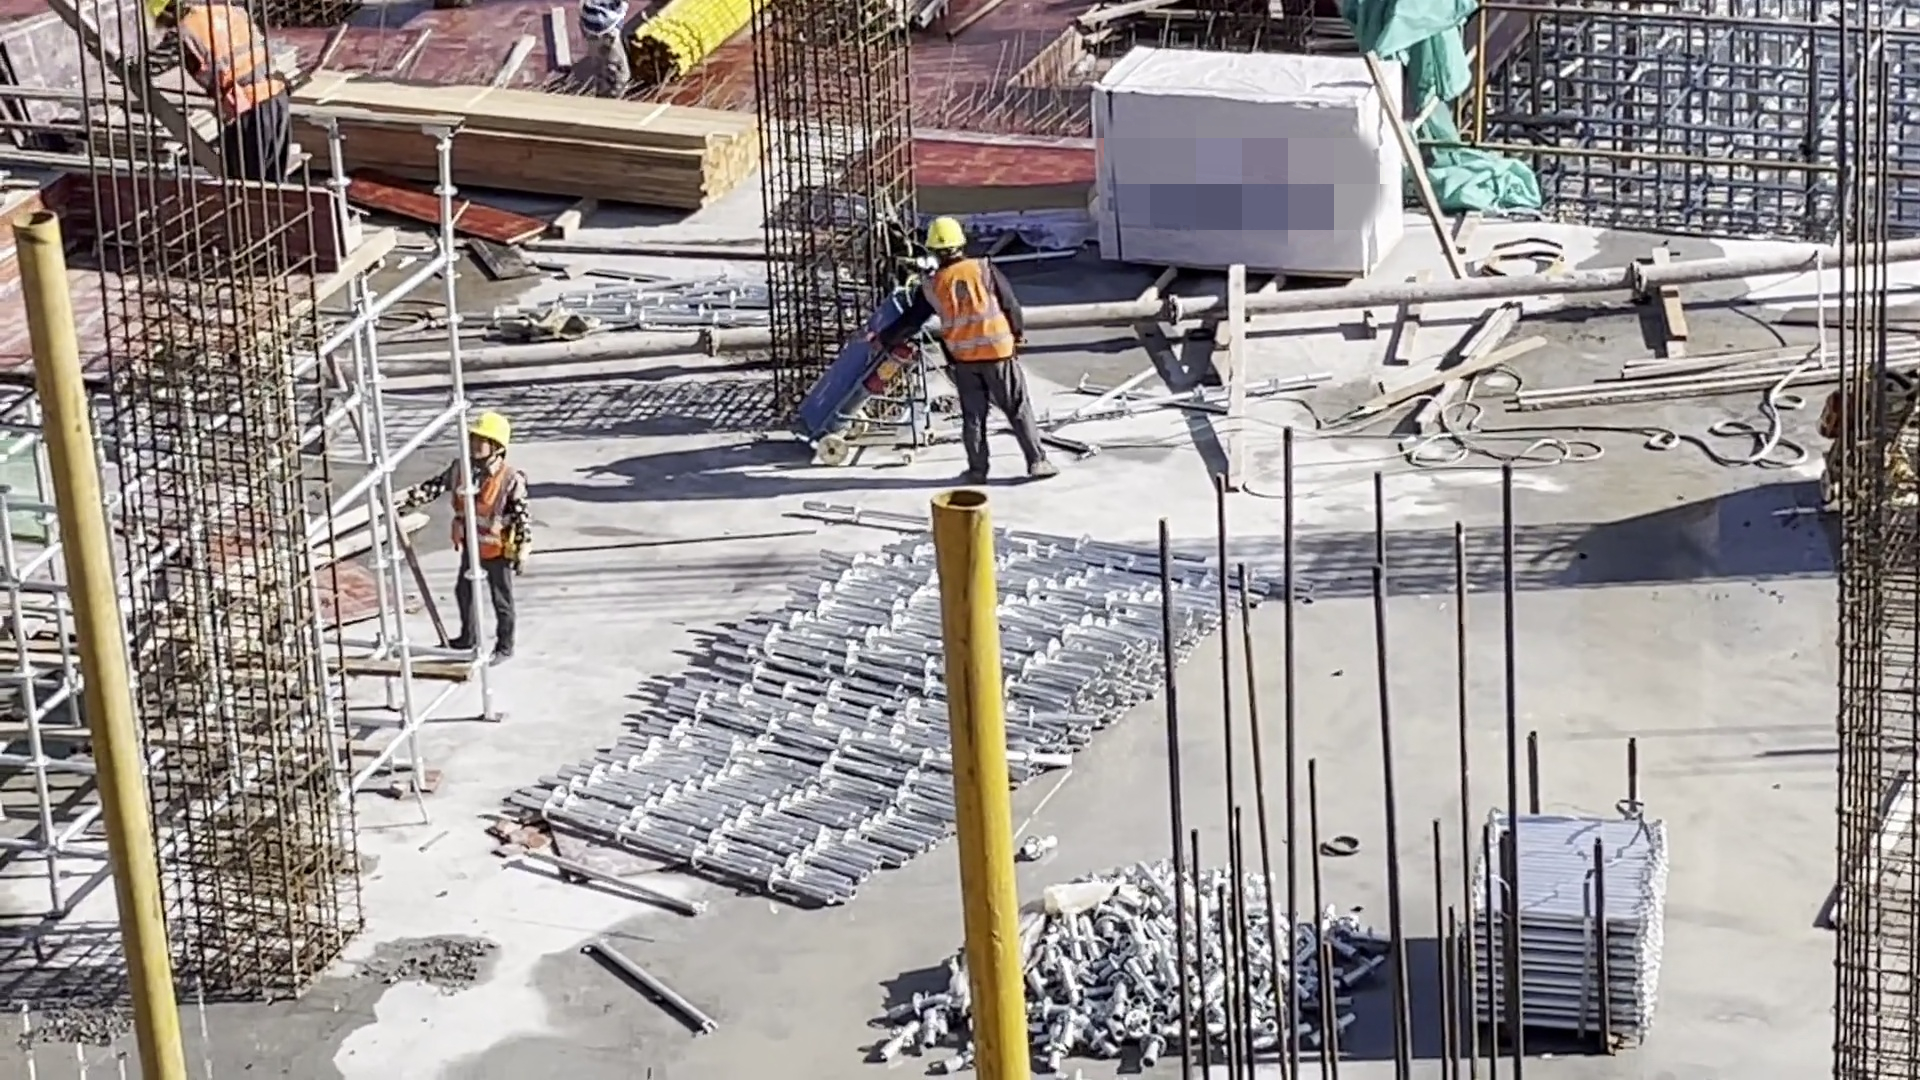helmet: (463, 408, 511, 448), (925, 222, 970, 256)
person: (888, 219, 1052, 490), (411, 405, 534, 663), (138, 5, 292, 190), (573, 1, 641, 101)
vest: (172, 9, 283, 120), (931, 264, 1009, 361), (454, 461, 525, 560)
